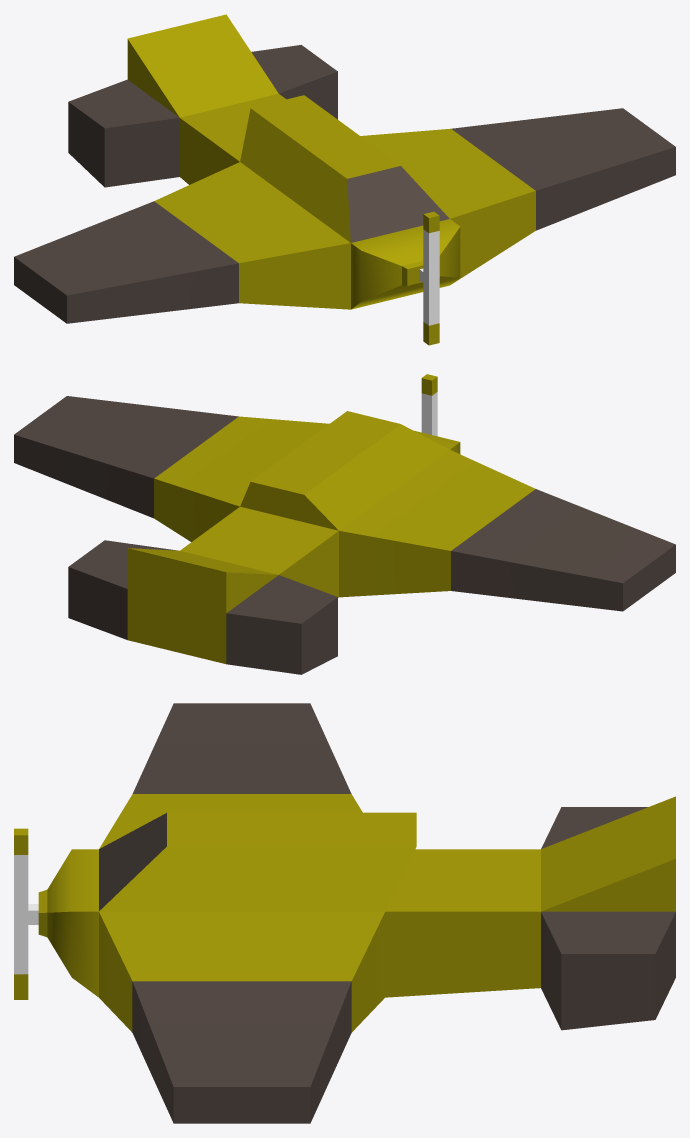
File: FighterPlane1.fbx
The picture shows the model from 3 angles, top to bottom: view 1: azimuth 30°, elevation 25°; view 2: azimuth 150°, elevation 25°; view 3: azimuth 270°, elevation 25°; orthographic projection. The views are drawn at different scales.
Visible parts, largest first — view 1: FighterPlan1, Fan; view 2: FighterPlan1, Fan; view 3: FighterPlan1, Fan.
Part boxes in pixels (<box>): FighterPlan1: <box>14,14,675,323</box>; Fan: <box>419,211,439,345</box>; FighterPlan1: <box>14,396,675,674</box>; Fan: <box>421,374,437,436</box>; FighterPlan1: <box>38,703,675,1123</box>; Fan: <box>14,828,38,999</box>.
Bounding box in the file's own units: 16.4 × 3.36 × 11.96.
